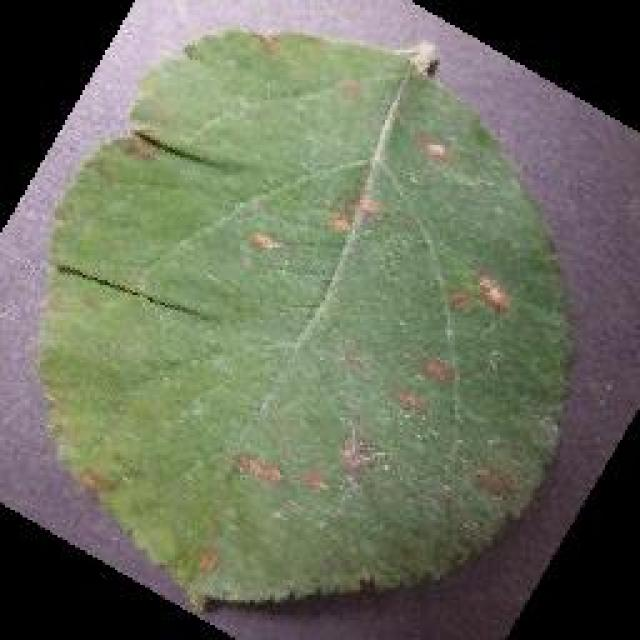apple rust disease: (32, 22, 578, 610)
